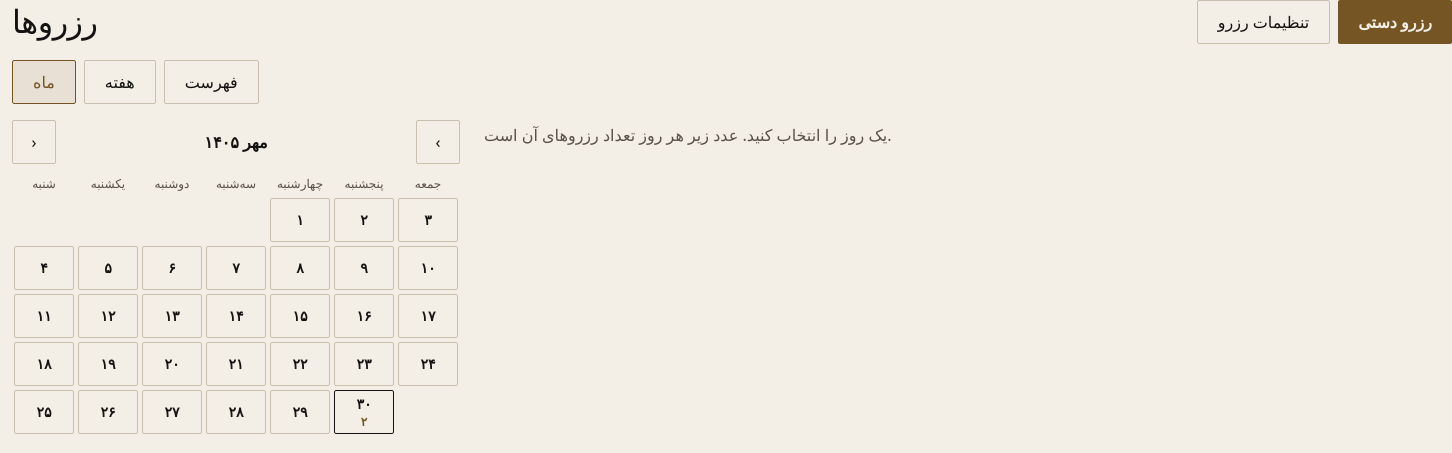
BookingsManager › shows a count under each day of the month, and the bookings of the chosen day
The image size is (1452, 453).
Expected: the table is shown, [12, 172, 460, 436]
Expected: the 2nd text "۲" is shown, [361, 414, 367, 430]
Click the button "۳۰ ۲". click: click(364, 412)
box: [334, 390, 394, 434]
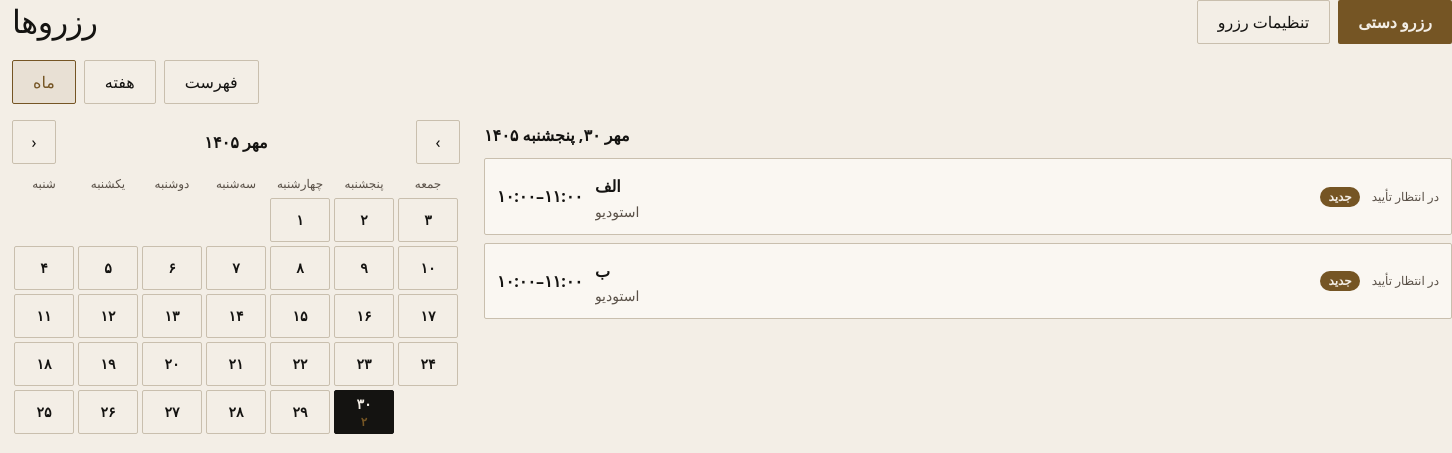
Now the number of list items is 2, box [484, 158, 1451, 235]; [484, 243, 1451, 319]
